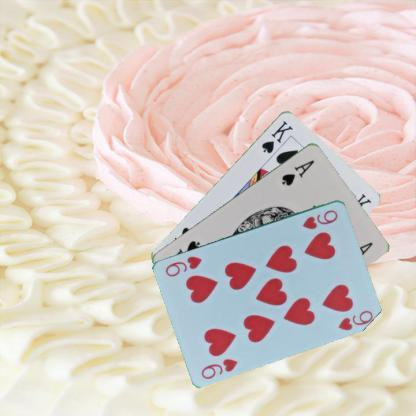9h: (198, 356, 239, 380), (299, 207, 339, 230)
As: (279, 157, 316, 187)
Ks: (259, 118, 295, 154)
